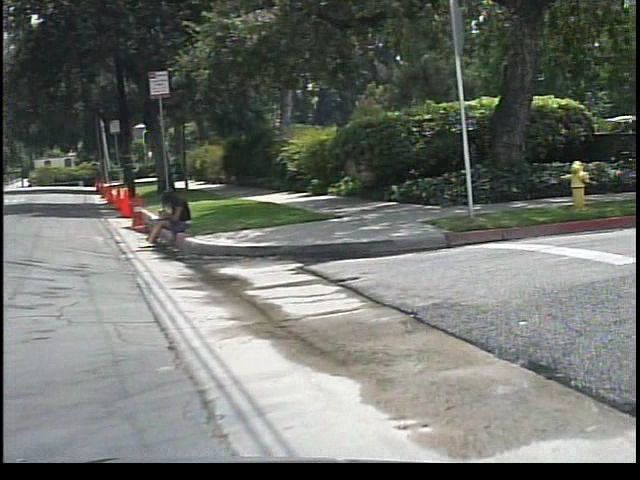person: (145, 188, 204, 250)
